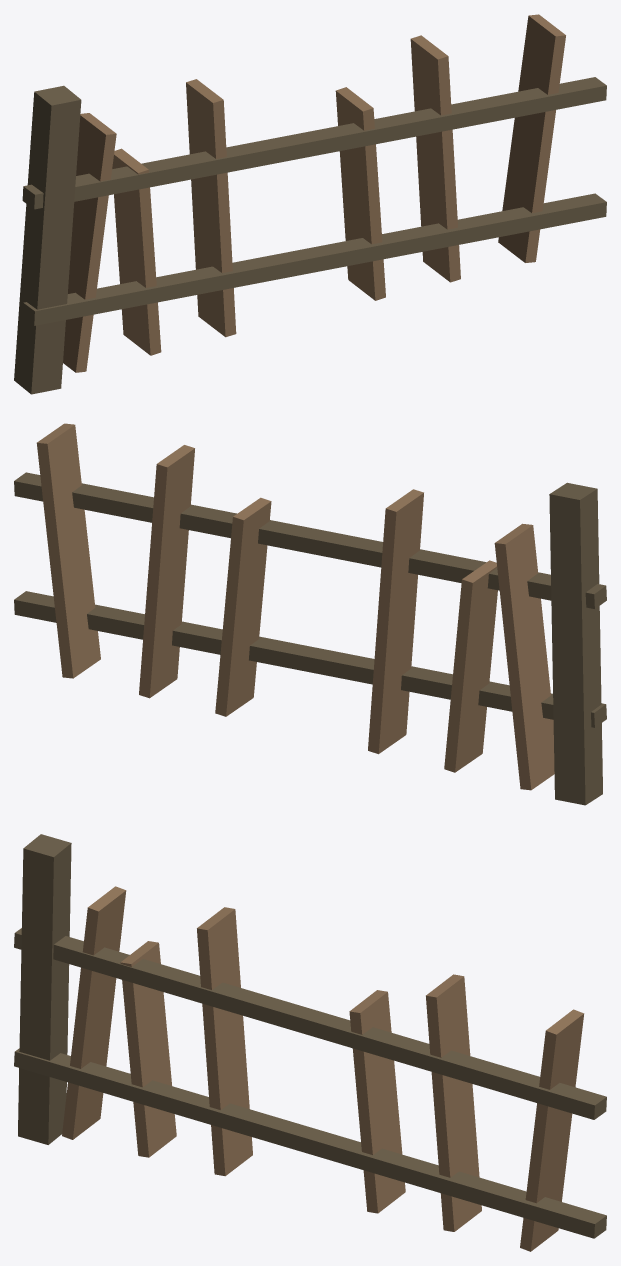
The model's file is ua_valley_fence_broken_2.obj.
3 renders of one model, top to bottom at view 1: azimuth 30°, elevation 25°; view 2: azimuth 150°, elevation 25°; view 3: azimuth 330°, elevation 25°, orthographic.
Parts seen in each view (by area): view 1: ua_valley_fence_broken_2; view 2: ua_valley_fence_broken_2; view 3: ua_valley_fence_broken_2.
Boxes of the visible parts, x1,y1,x2,y2 form: ua_valley_fence_broken_2: (14,14,606,394); ua_valley_fence_broken_2: (14,423,606,805); ua_valley_fence_broken_2: (14,834,606,1251).
Bounding box in the file's own units: 2.67 × 1.31 × 0.2751.
